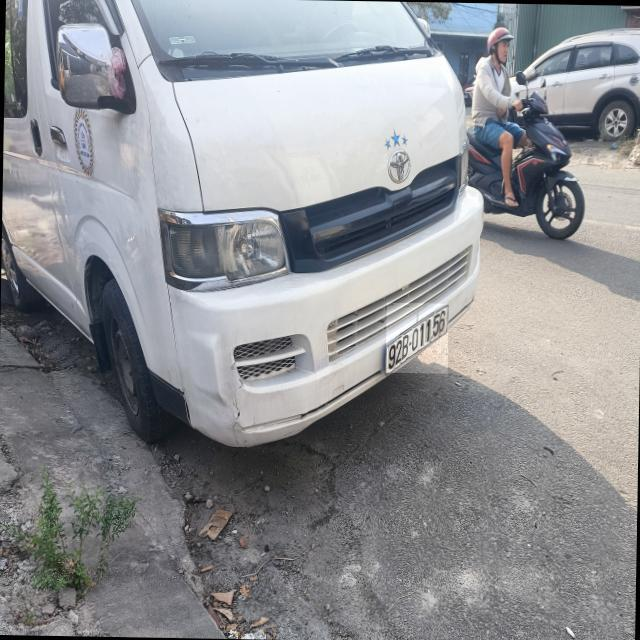car: (17, 4, 489, 457), (512, 8, 640, 160)
motorcycle: (495, 121, 588, 247)
plate: (378, 300, 462, 377)
